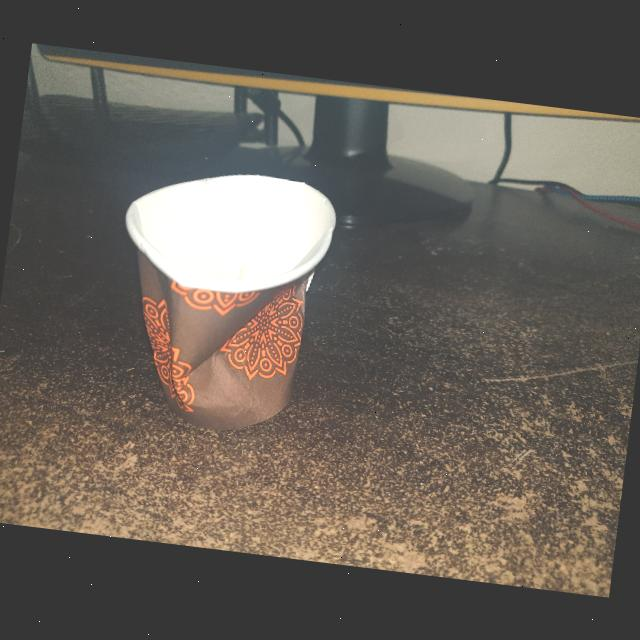trash: (94, 156, 347, 445)
